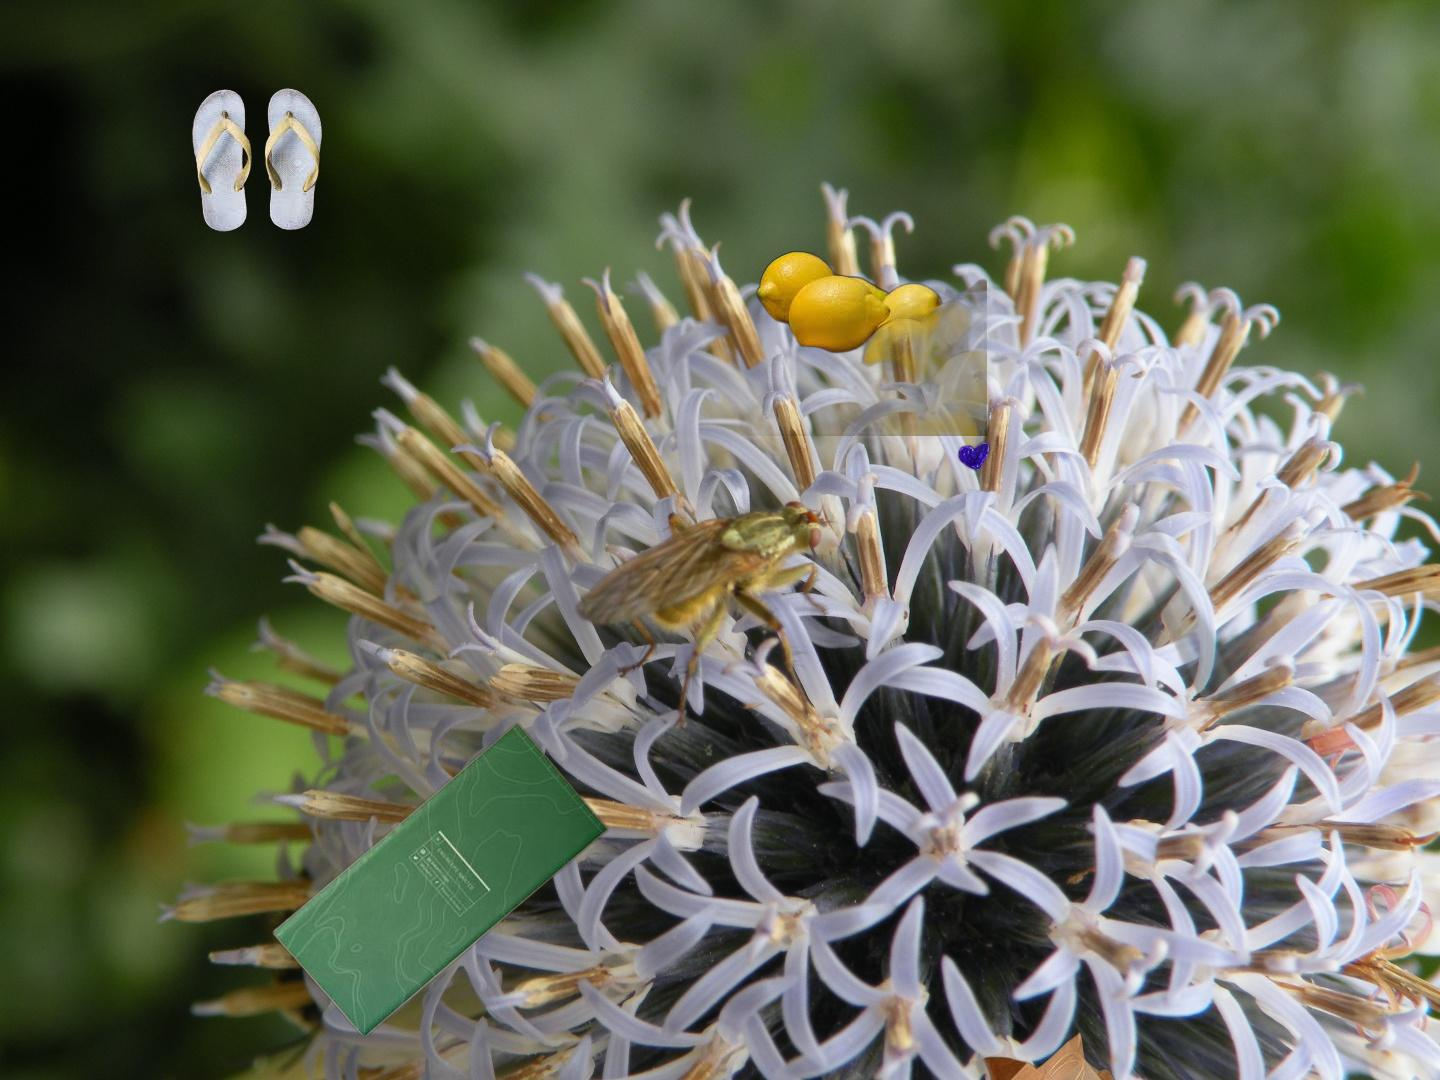biological: (729, 247, 986, 436)
paper: (268, 720, 612, 1041)
paper-bag: (964, 1029, 1164, 1080)
penholder: (956, 438, 1271, 701)
shoes: (189, 85, 325, 235)
